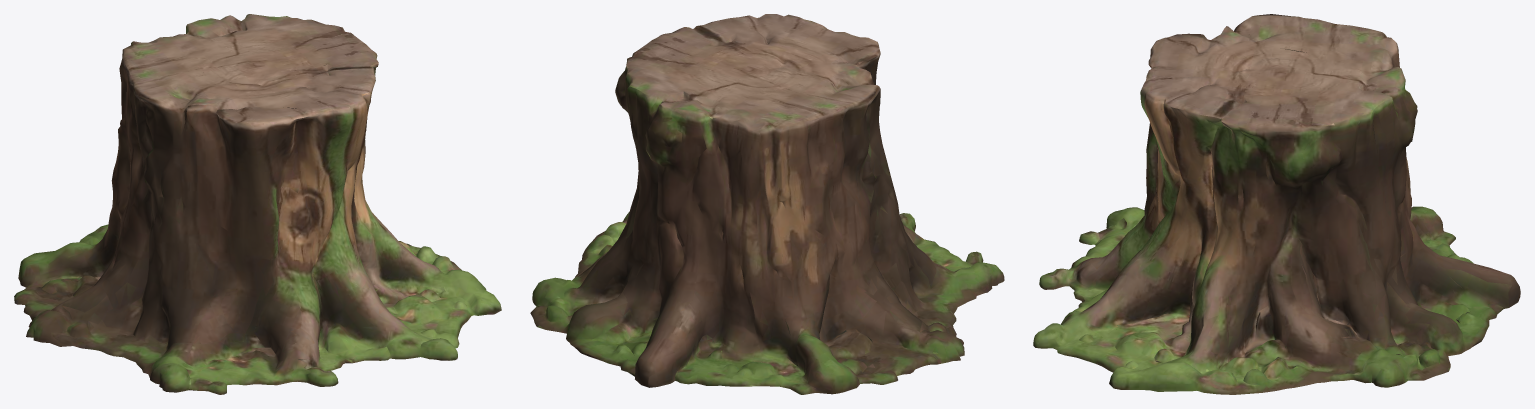
Rendered from StumpPainted.glb.
3 views of the same model, side by side, from view 1: azimuth 30°, elevation 25°; view 2: azimuth 150°, elevation 25°; view 3: azimuth 270°, elevation 25° (orthographic). The views are drawn at different scales.
Visible parts, largest first — view 1: StumpPainted; view 2: StumpPainted; view 3: StumpPainted.
Boxes of the visible parts, x1=… form: StumpPainted: x1=14, y1=14, x2=501, y2=394; StumpPainted: x1=530, y1=14, x2=1004, y2=394; StumpPainted: x1=1033, y1=14, x2=1520, y2=394.
Size of the model in its own units: 1.39 by 0.767 by 1.44.
1 material, 1 textured.
